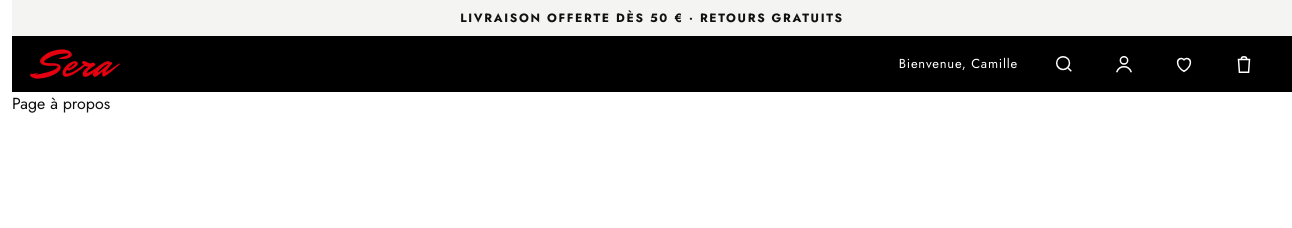
Test: Page Mon compte › déconnexion depuis une autre page : le visiteur reste sur la page
Expected: the text "Bienvenue, Camille" is shown, [899, 54, 1018, 74]
Click the button named "Mon compte".
click(1124, 64)  # box [1102, 42, 1146, 86]
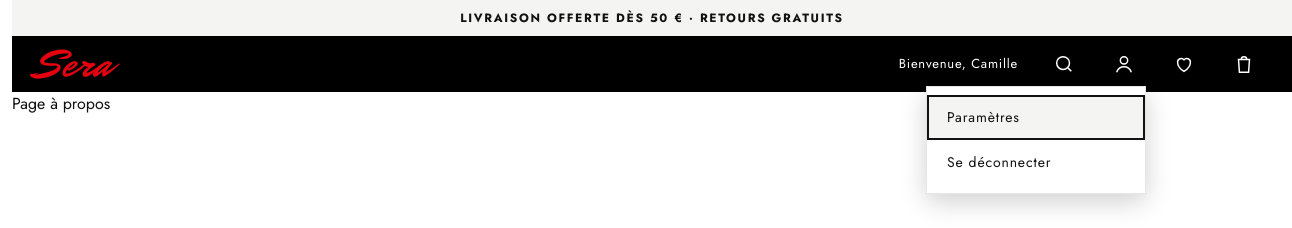
Click the button "Se déconnecter".
click(1036, 162)  # box [927, 140, 1145, 185]
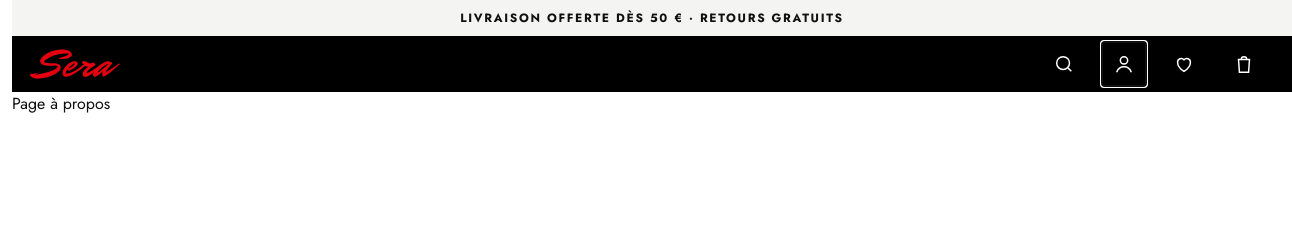
Expected: the text "Page à propos" is shown, [12, 92, 110, 115]
Expected: the text "Bienvenue" is gone
